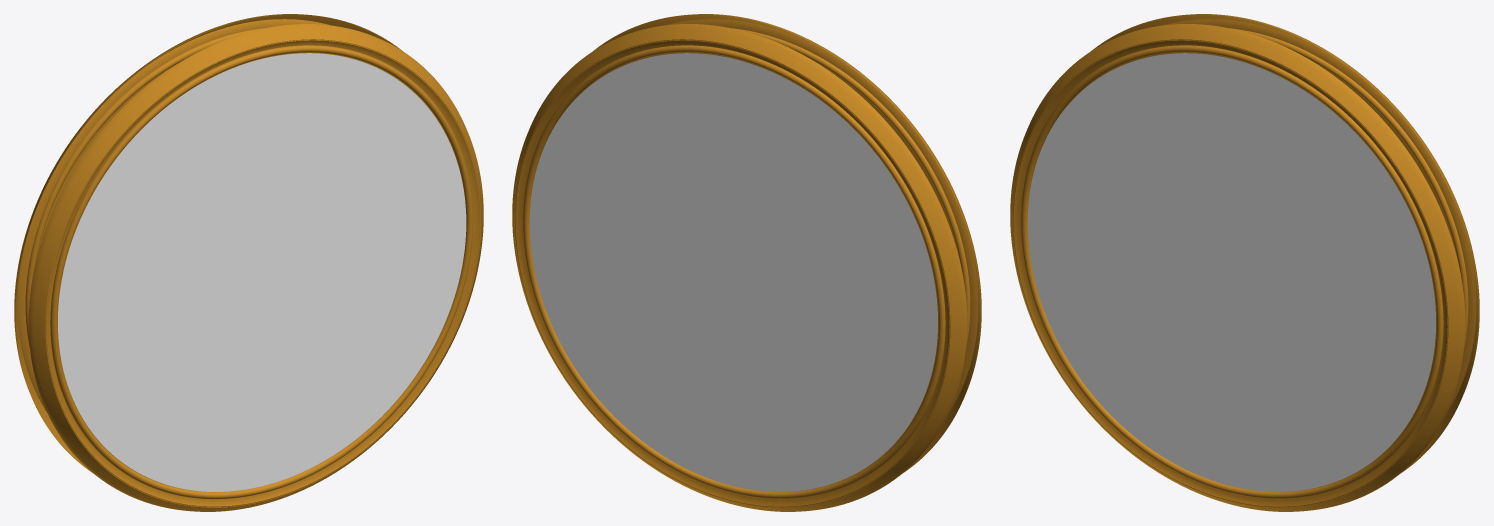
Rendered from uetgpt-medallion.obj.
3 views of the same model, side by side, from view 1: azimuth 30°, elevation 25°; view 2: azimuth 150°, elevation 25°; view 3: azimuth 330°, elevation 25° (orthographic).
Visible parts, largest first — view 1: seal_front, blank, field_ring_front, field_ring_back; view 2: seal_back, blank, field_ring_back, field_ring_front; view 3: seal_front, blank, field_ring_front, field_ring_back.
Part boxes in pixels (x1,y1,x2,y2): seal_front: (58,53,466,491); blank: (14,14,483,511); field_ring_front: (50,45,472,499); field_ring_back: (25,28,263,347); seal_back: (529,53,937,491); blank: (512,14,981,511); field_ring_back: (523,45,945,499); field_ring_front: (732,28,970,347); seal_front: (1027,53,1435,491); blank: (1010,14,1479,511); field_ring_front: (1021,45,1443,499); field_ring_back: (1230,28,1468,347).
Size of the model in its own units: 0.1 by 0.1 by 0.011.
